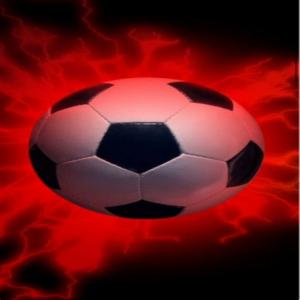Football: (28, 77, 266, 220)
